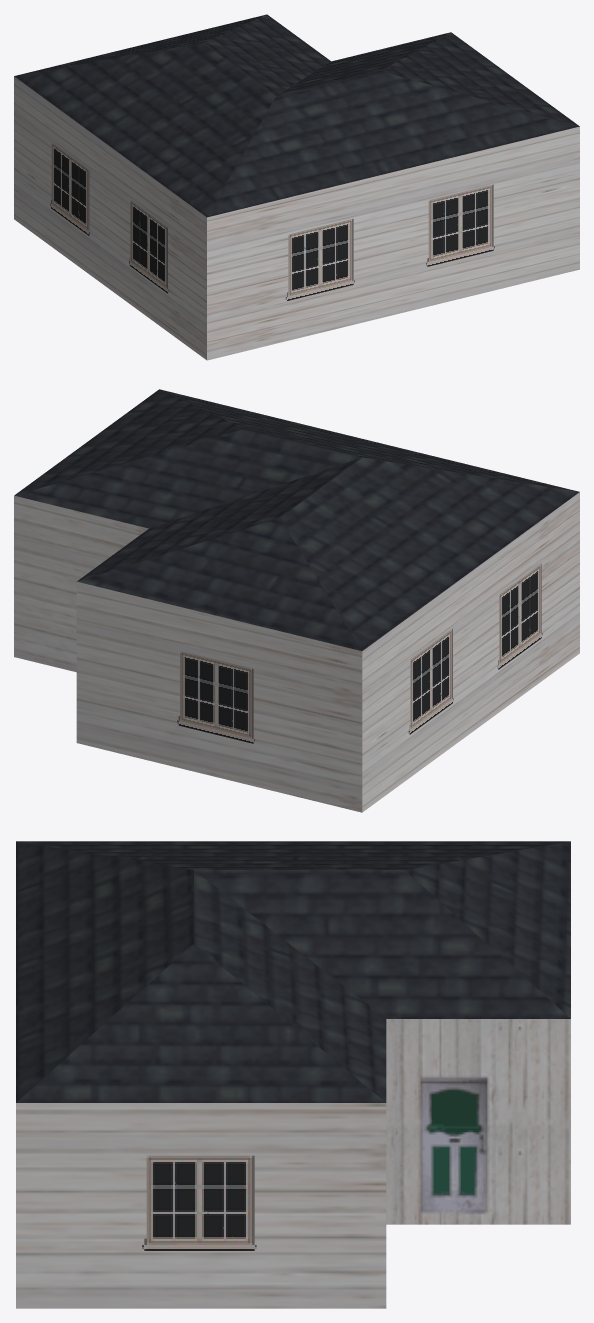
File: House3.fbx
The picture shows the model from 3 angles, top to bottom: view 1: azimuth 30°, elevation 25°; view 2: azimuth 150°, elevation 25°; view 3: azimuth 270°, elevation 25°; orthographic projection. The views are drawn at different scales.
Visible parts, largest first — view 1: polySurface12, polySurface7, polySurface13, polySurface9, polySurface10; view 2: polySurface12, polySurface8, polySurface9, polySurface10; view 3: polySurface12, polySurface11.
Part boxes in pixels (left/top/right/bottom): polySurface12: left=14, top=14, right=579, bottom=360; polySurface7: left=285, top=218, right=354, bottom=300; polySurface13: left=426, top=184, right=494, bottom=266; polySurface9: left=50, top=142, right=89, bottom=235; polySurface10: left=129, top=200, right=168, bottom=293; polySurface12: left=14, top=389, right=579, bottom=812; polySurface8: left=177, top=651, right=254, bottom=743; polySurface9: left=408, top=628, right=453, bottom=734; polySurface10: left=497, top=564, right=542, bottom=669; polySurface12: left=16, top=841, right=570, bottom=1308; polySurface11: left=142, top=1155, right=256, bottom=1250.
Bounding box in the file's own units: 16.09 × 7.63 × 14.57.
